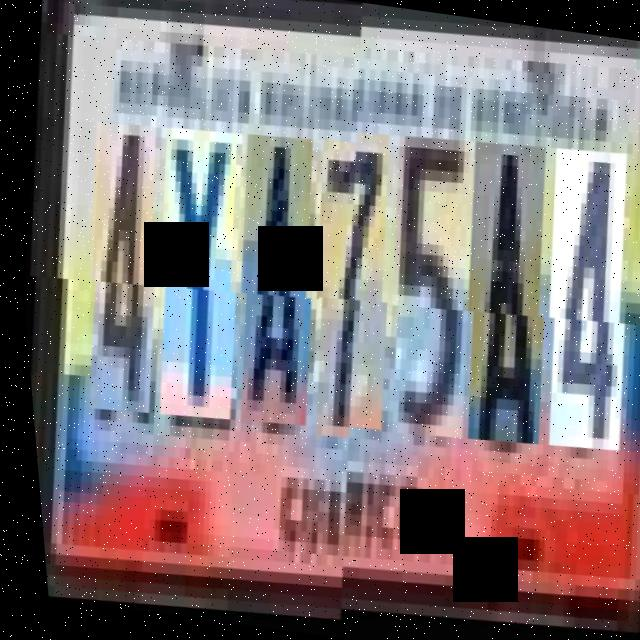4: (516, 163, 640, 472), (59, 120, 180, 417)
5: (360, 148, 493, 458)
7: (284, 141, 413, 450)
A: (435, 156, 569, 464), (210, 134, 337, 432)
Y: (129, 127, 262, 426)
